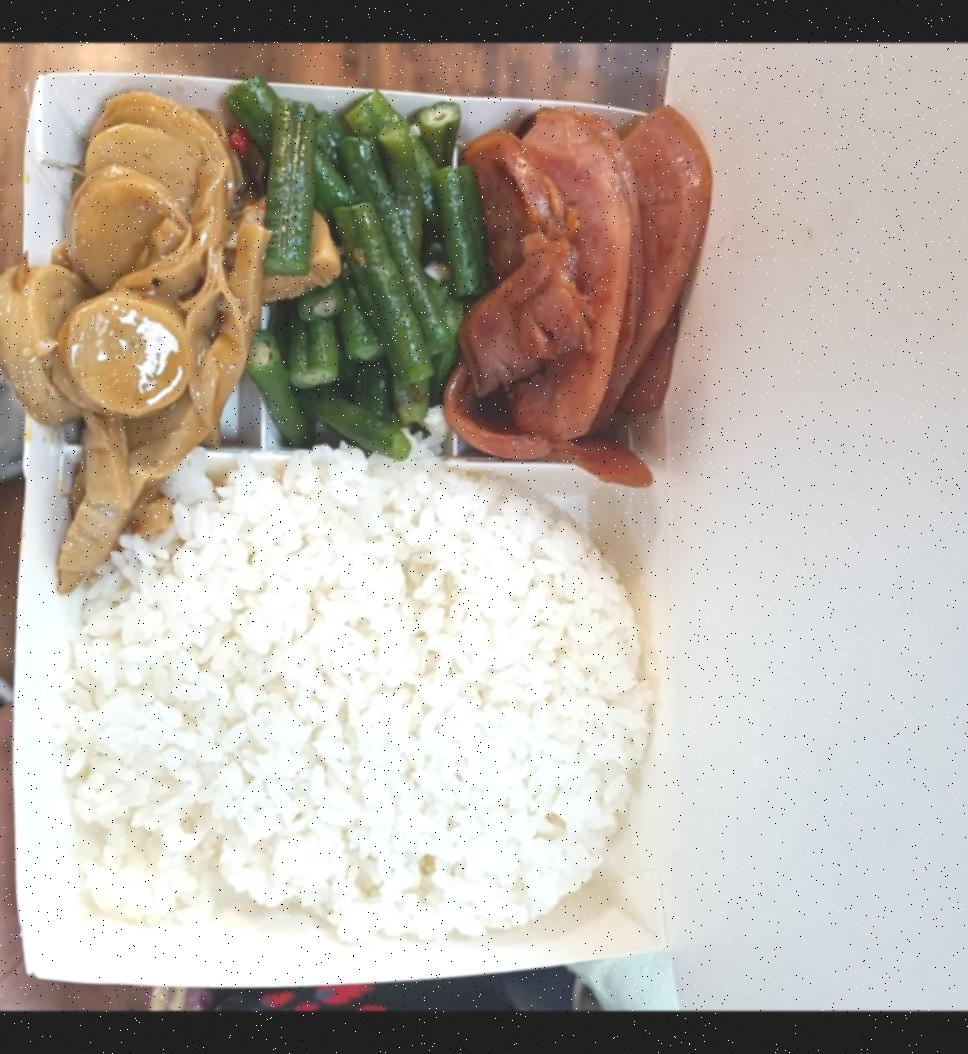box: (0, 64, 718, 980)
sausage: (453, 101, 726, 470)
side dish: (36, 91, 243, 463), (246, 94, 458, 450)
white rice: (87, 461, 625, 923)
